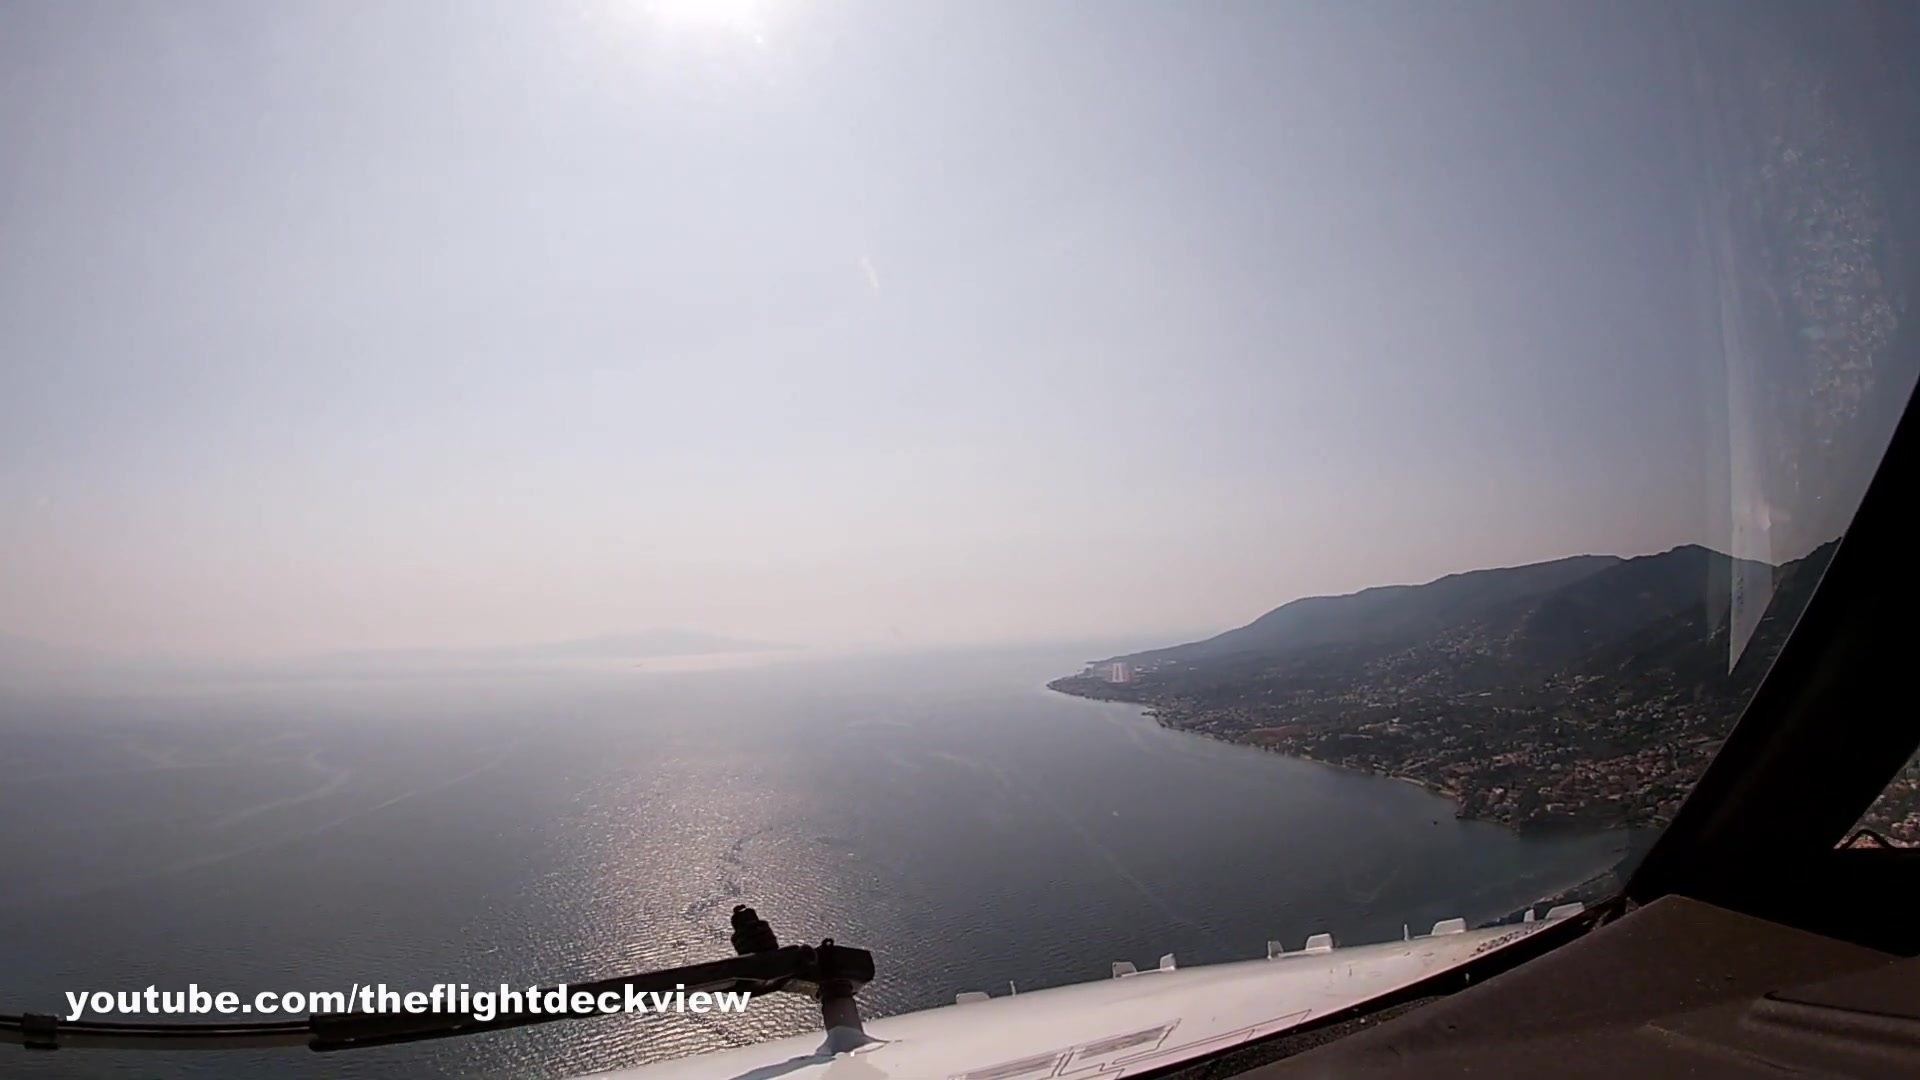runway: (1110, 662, 1126, 684)
